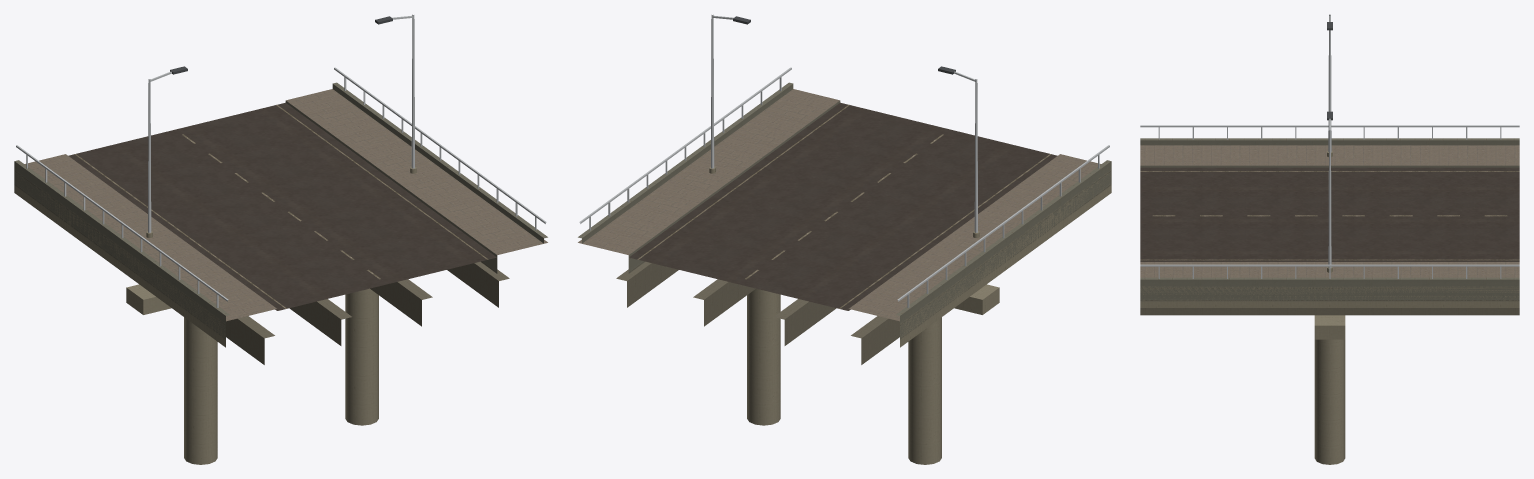
File: road_bridge.glb
The picture shows the model from 3 angles, left to right: view 1: azimuth 30°, elevation 25°; view 2: azimuth 150°, elevation 25°; view 3: azimuth 270°, elevation 25°; orthographic projection. The views are drawn at different scales.
Visible parts, largest first — view 1: road_bridge_body; view 2: road_bridge_body; view 3: road_bridge_body.
Boxes of the visible parts, box(x1,y1,x2,y2) form: road_bridge_body: box(14, 14, 547, 464); road_bridge_body: box(578, 14, 1111, 464); road_bridge_body: box(1140, 14, 1519, 464).
Size of the model in its own units: 0.88 by 1.03 by 1.
Materials: 9 (6 with a texture image).
